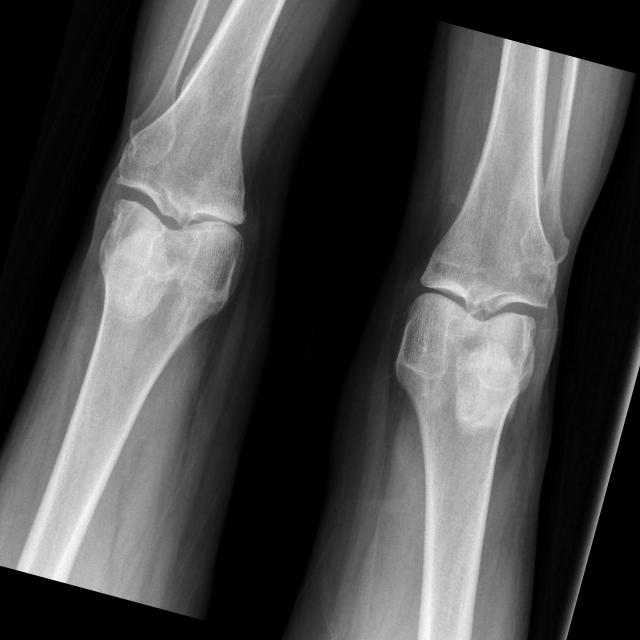Knee: (90, 126, 268, 304), (393, 226, 564, 395)
